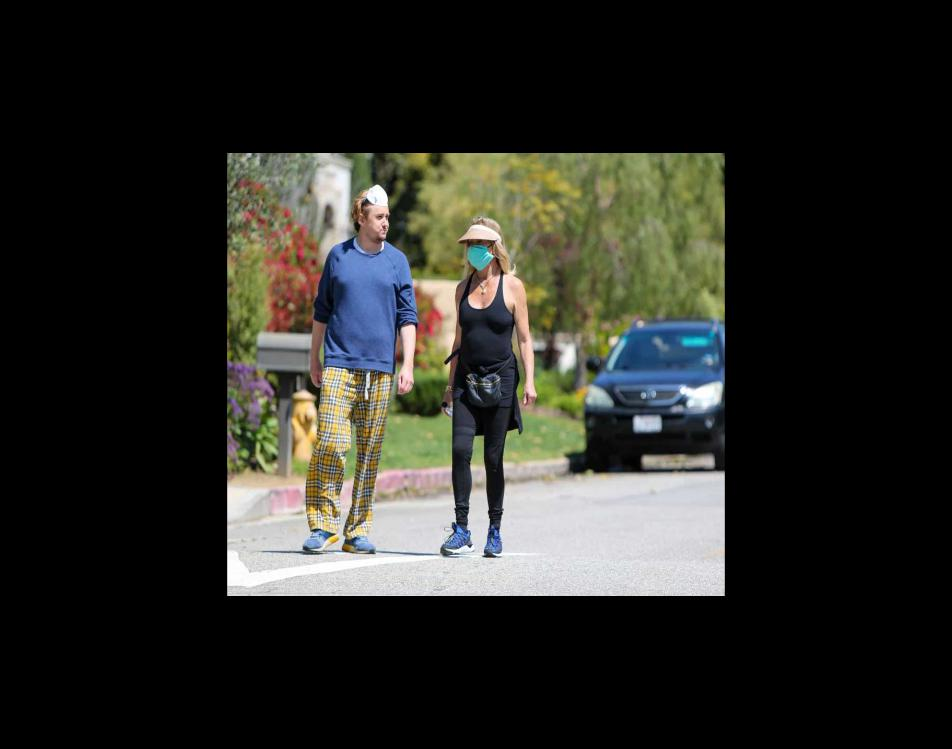mask_weared_incorrect: (366, 197, 391, 243)
with_mask: (466, 240, 493, 265)
